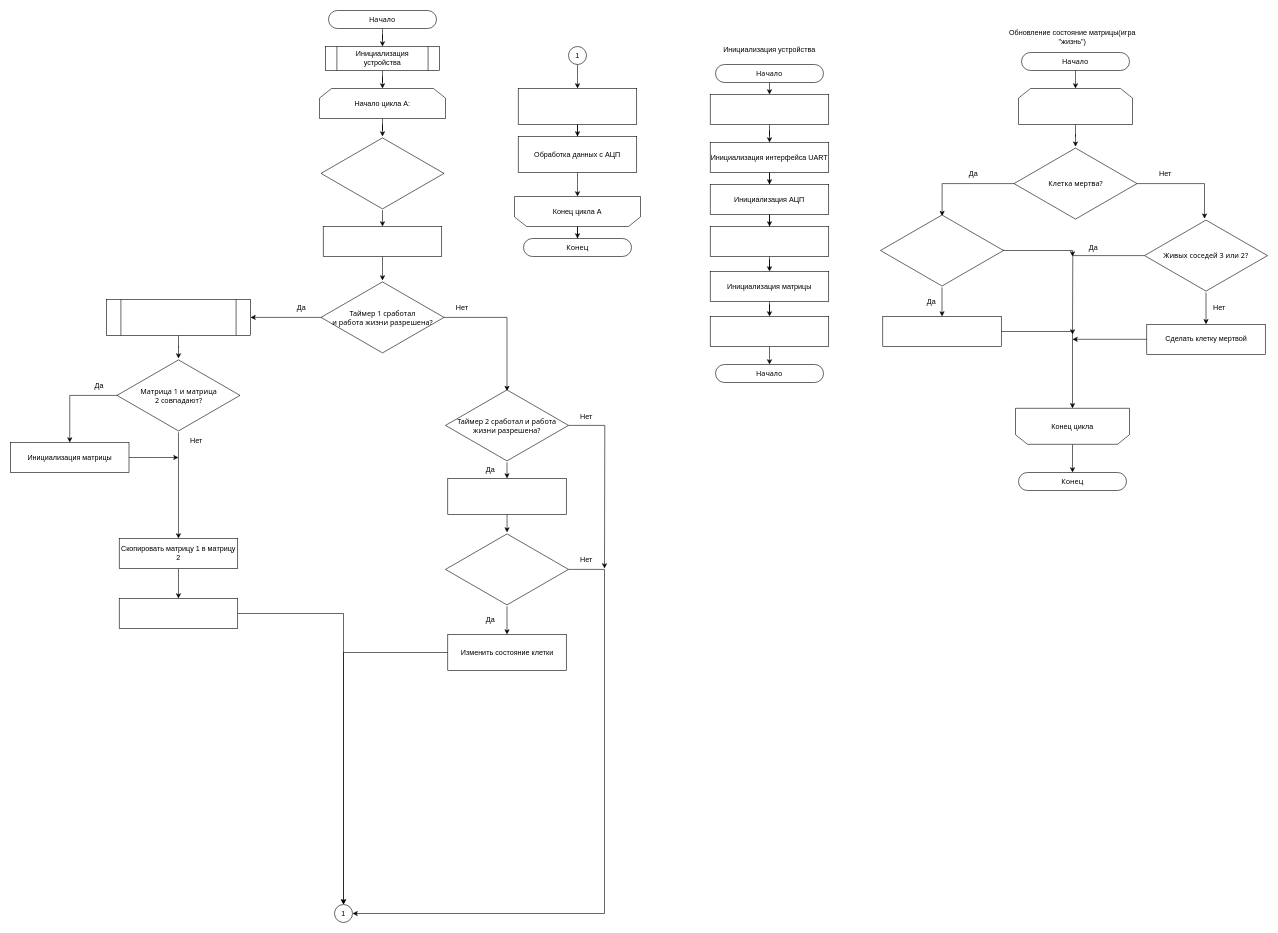
This 1278x933 diagram has some shape labels left out. Each missing label, with the centre of its shape:
"Вывод в интерфейс UART" goes at [382,241].
"Живых соседей 3?" goes at [942,250].
"Изменить позицию курсора" goes at [506,496].
"Инициализация интерфейса SPI" goes at [769,241].
"Инициализация пинов" goes at [769,109].
"Инициализация таймеров" goes at [769,331].
"Кнопка нажата?" goes at [506,569].
"Обновить состояние матрицы" goes at [178,317].
"Обновить состояние светодиодной матрицы" goes at [178,613].
"Сделать клетку живой" goes at [941,331].
"Таймер 2 сработал?" goes at [382,173].
"Цикл по всем элементам матрицы 1" goes at [1075,106].
"Чтение каналов АЦП" goes at [577,106].
